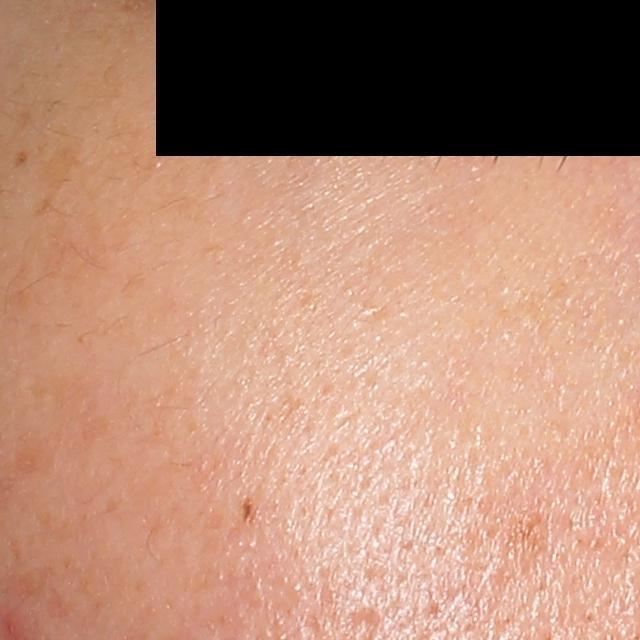nevus: (238, 494, 261, 526)
